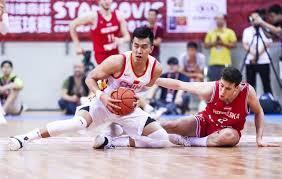Fall-Detected: (156, 61, 269, 147)
